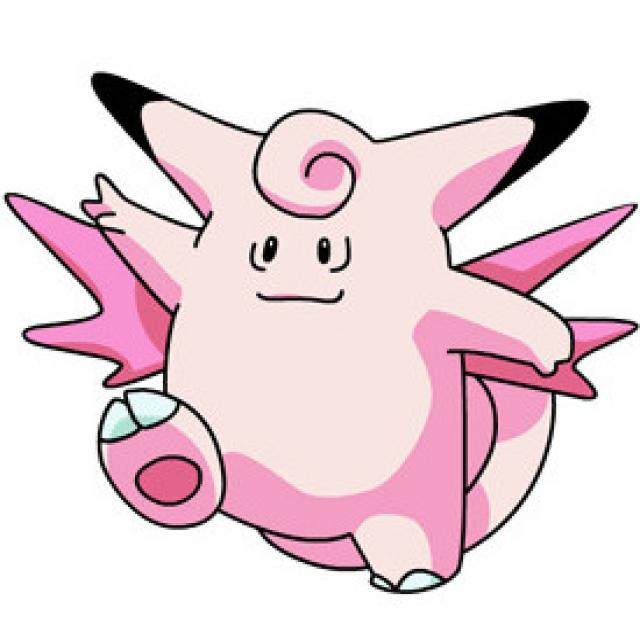Clefable: (93, 87, 562, 589)
